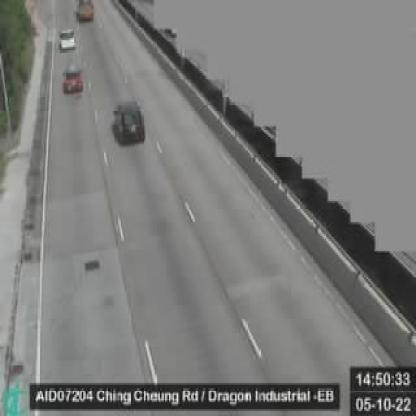Car: (110, 99, 145, 142), (61, 64, 83, 92), (57, 27, 76, 48)
